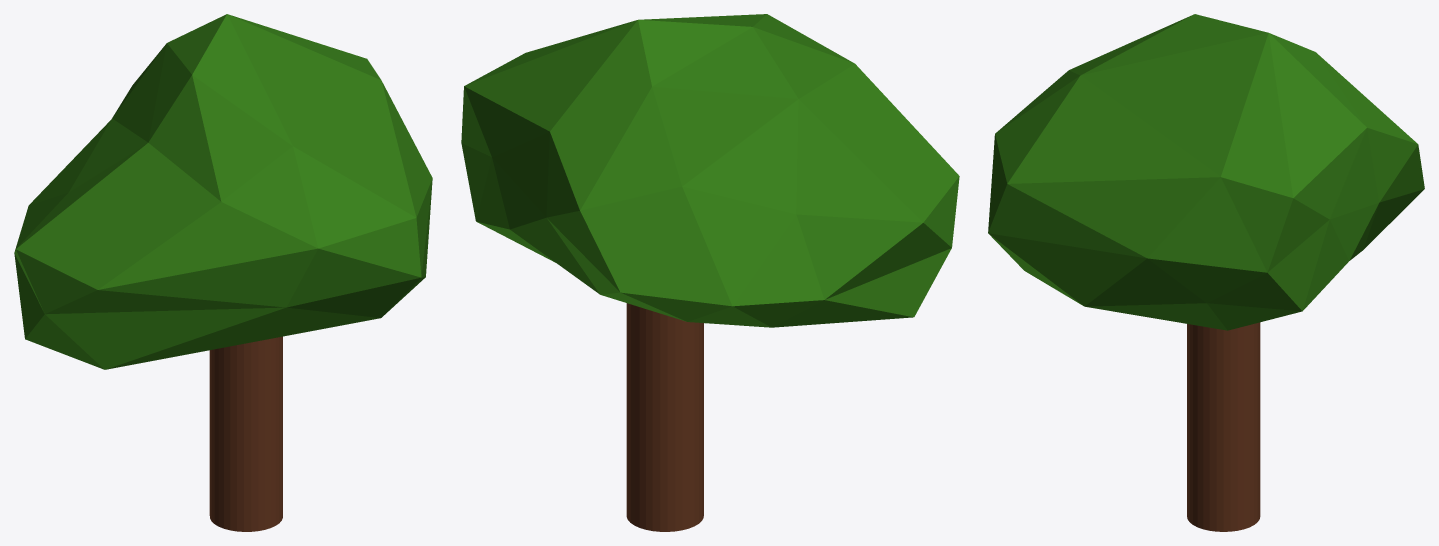
File: arvore_1.fbx
The picture shows the model from 3 angles, left to right: view 1: azimuth 30°, elevation 25°; view 2: azimuth 150°, elevation 25°; view 3: azimuth 270°, elevation 25°; orthographic projection. The views are drawn at different scales.
Visible parts, largest first — view 1: Esfera icosaédrica, Cilindro; view 2: Esfera icosaédrica, Cilindro; view 3: Esfera icosaédrica, Cilindro.
Part boxes in pixels (bbox=[...]): Esfera icosaédrica: bbox=[14, 14, 432, 369]; Cilindro: bbox=[209, 336, 282, 531]; Esfera icosaédrica: bbox=[461, 14, 959, 327]; Cilindro: bbox=[626, 303, 703, 531]; Esfera icosaédrica: bbox=[988, 14, 1424, 330]; Cilindro: bbox=[1187, 322, 1260, 531].
Size of the model in its own units: 749 by 850 by 693.
